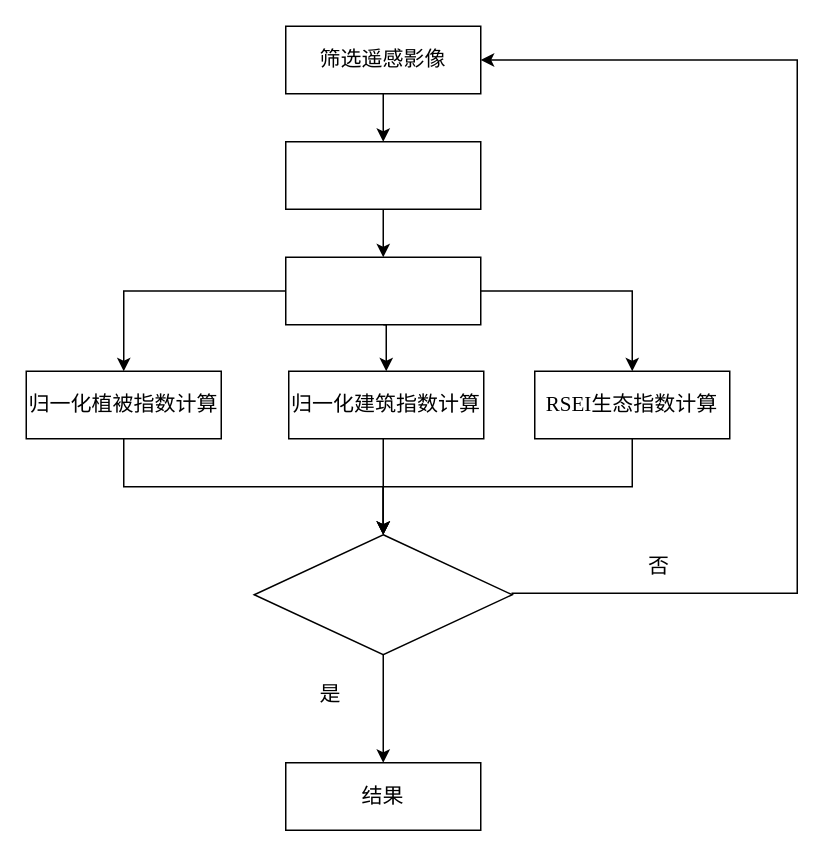
This 836x857 diagram has some shape labels left out. Here are the shapes that lost their labels. From the top down, the centre of each, then its label:
At [382,174]: "影像预处理".
At [382,290]: "公式构建".
At [382,594]: "是否计算成功".
